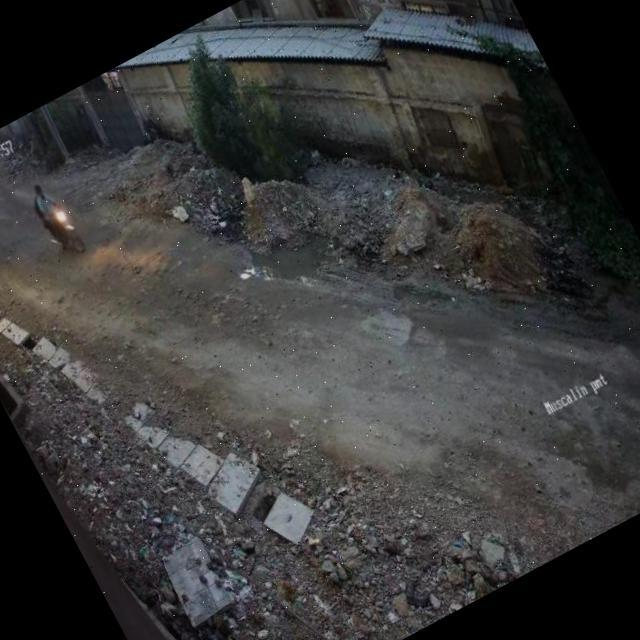person: (22, 177, 65, 222)
